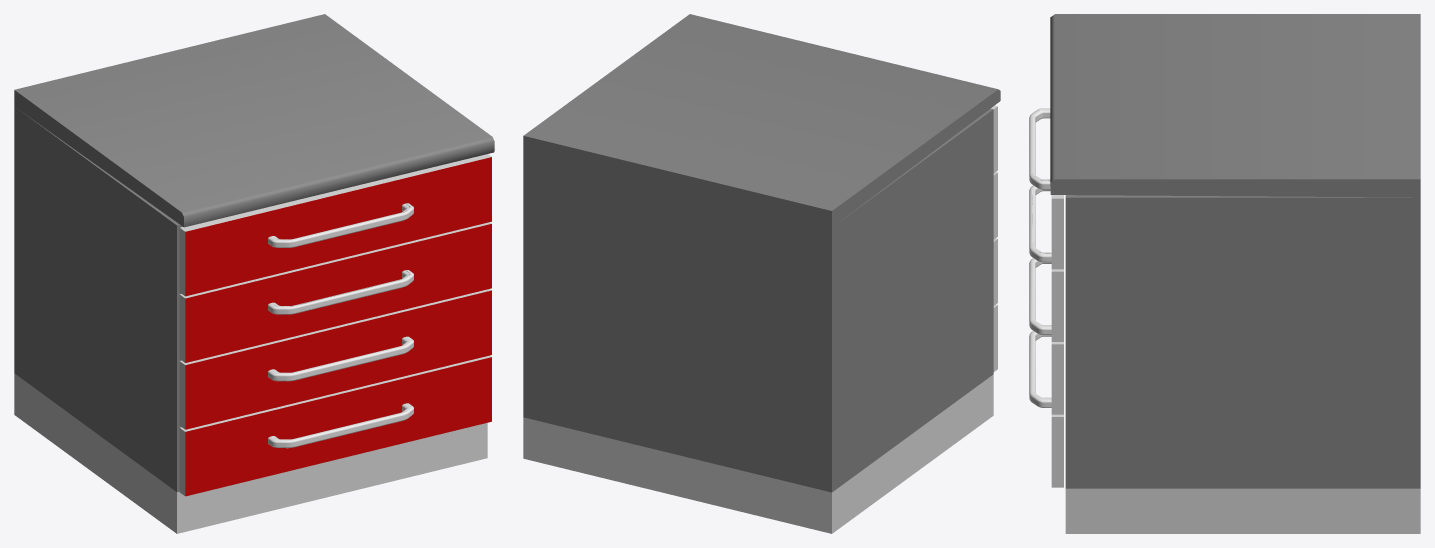
File: sh-lp-cassettiera.glb
The picture shows the model from 3 angles, left to right: view 1: azimuth 30°, elevation 25°; view 2: azimuth 150°, elevation 25°; view 3: azimuth 270°, elevation 25°; orthographic projection. The views are drawn at different scales.
Parts seen in each view (by area): view 1: Box562_5, Line68_3, Box55_1, Box56_4, Loft18_2; view 2: Box55_1, Line68_3, Box56_4; view 3: Box55_1, Line68_3, Box56_4, Loft18_2.
Part boxes in pixels (left/top/right/bottom): Box562_5: left=185, top=157, right=491, bottom=496; Line68_3: left=14, top=14, right=494, bottom=227; Box55_1: left=14, top=106, right=182, bottom=492; Box56_4: left=14, top=154, right=491, bottom=533; Loft18_2: left=268, top=203, right=413, bottom=448; Box55_1: left=523, top=108, right=993, bottom=492; Line68_3: left=523, top=14, right=1000, bottom=227; Box56_4: left=523, top=105, right=997, bottom=533; Box55_1: left=1065, top=195, right=1420, bottom=488; Line68_3: left=1050, top=14, right=1420, bottom=197; Box56_4: left=1051, top=195, right=1420, bottom=533; Loft18_2: left=1029, top=108, right=1051, bottom=407.
Size of the model in its own units: 1 by 1 by 1.
